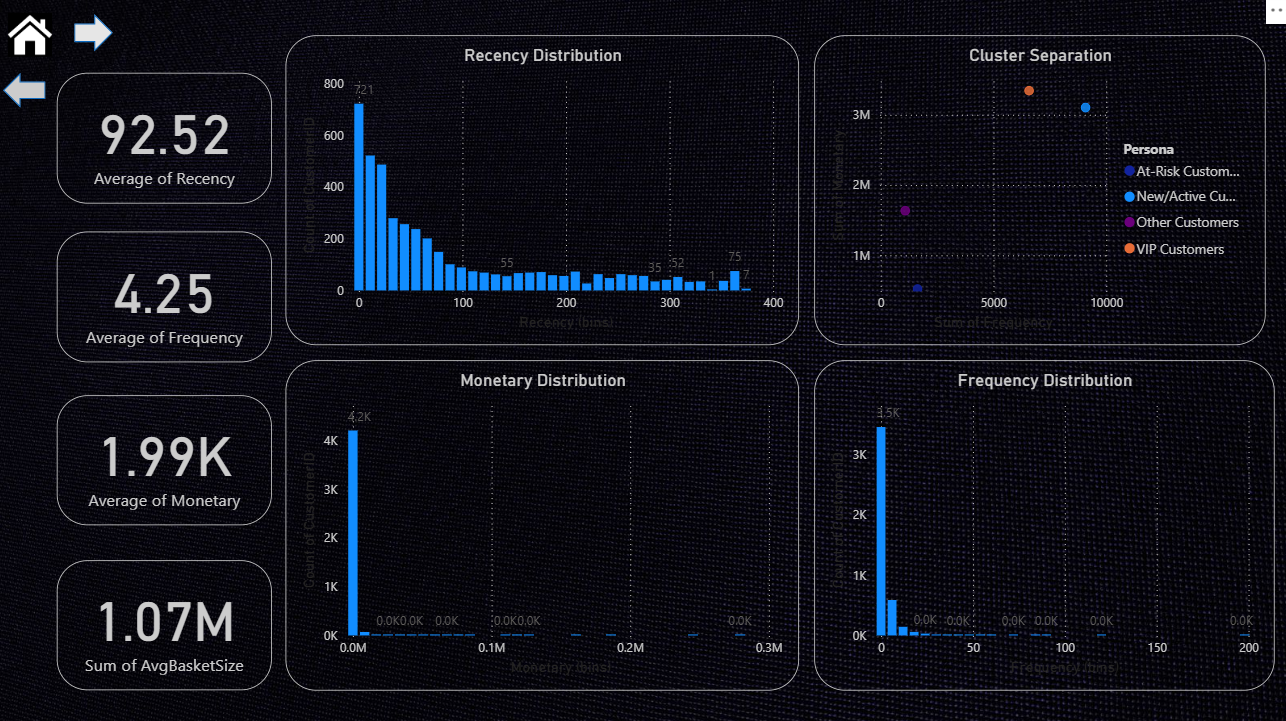

The dashboard page shown, as its layout file describes it:
{"tool":"powerbi","page":{"name":"Cust Behaviour","canvas":[1280,720],"ordinal":2},"visuals":[{"type":"image","box":[0,0,1280.3,720.2],"z":0},{"type":"image","box":[14.5,13.3,53.1,53.1],"z":1000},{"type":"scatterChart","title":"Cluster Separation","fields":{"X":["Sum(Customer_Features.Frequency)"],"Y":["Sum(Customer_Features.Monetary)"],"Series":["Personas.Persona"]},"box":[808.3,40.4,441.4,303.3],"z":2000},{"type":"clusteredColumnChart","title":"Recency Distribution","fields":{"Category":["Customer_Features.Recency (bins)"],"Y":["CountNonNull(Customer_Features.CustomerID)"]},"box":[291,40.4,502.6,303.3],"z":3000},{"type":"clusteredColumnChart","title":"Monetary Distribution","fields":{"Category":["Customer_Features.Monetary (bins)"],"Y":["CountNonNull(Customer_Features.CustomerID)"]},"box":[291,358.3,502.6,322.8],"z":4000},{"type":"clusteredColumnChart","title":"Frequency Distribution","fields":{"Category":["Customer_Features.Frequency (bins)"],"Y":["CountNonNull(Customer_Features.CustomerID)"]},"box":[808.3,358.3,450,322.8],"z":5000},{"type":"card","fields":{"Values":["Avg(Customer_Features.Recency)"]},"box":[67.3,77,210.3,128.4],"z":6000},{"type":"card","fields":{"Values":["Avg(Customer_Features.Frequency)"]},"box":[67.3,232.3,210.3,128.4],"z":7000},{"type":"card","fields":{"Values":["Avg(Customer_Features.Monetary)"]},"box":[67.3,392.5,210.3,127.2],"z":8000},{"type":"card","fields":{"Values":["Sum(Customer_Features.AvgBasketSize)"]},"box":[67.3,553.9,210.3,127.2],"z":9000},{"type":"shape","box":[84.4,19.6,37.9,36.7],"z":9001},{"type":"shape","box":[14.7,77,41.6,34.2],"z":9002}]}

Visuals, with their boxes in screenshot pixels (x1, y1, x2, y2), scaled from the page's 1280x720 canvas onto the 1286x721 screenshot:
image: select_region(0, 0, 1285, 720)
image: select_region(15, 13, 68, 66)
"Cluster Separation" scatterChart: select_region(812, 40, 1256, 344)
"Recency Distribution" clusteredColumnChart: select_region(292, 40, 797, 344)
"Monetary Distribution" clusteredColumnChart: select_region(292, 359, 797, 682)
"Frequency Distribution" clusteredColumnChart: select_region(812, 359, 1264, 682)
card - Avg(Customer_Features.Recency): select_region(68, 77, 279, 206)
card - Avg(Customer_Features.Frequency): select_region(68, 233, 279, 361)
card - Avg(Customer_Features.Monetary): select_region(68, 393, 279, 520)
card - Sum(Customer_Features.AvgBasketSize): select_region(68, 555, 279, 682)
shape: select_region(85, 20, 123, 56)
shape: select_region(15, 77, 57, 111)
